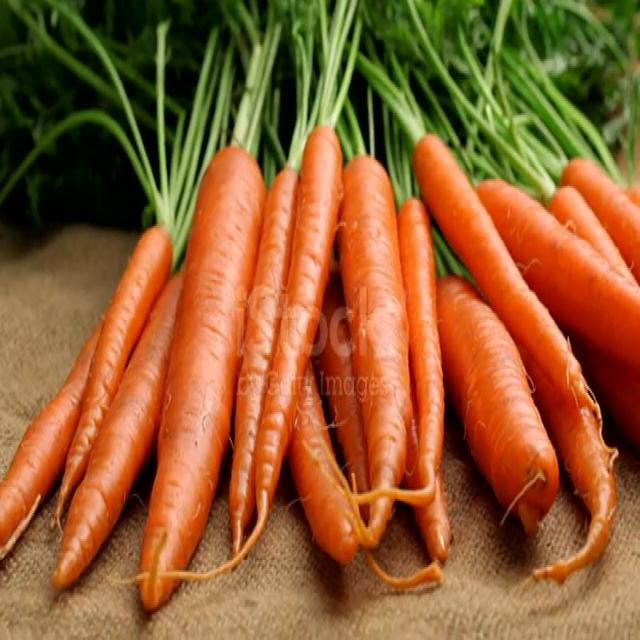carrot: (140, 146, 265, 611), (415, 135, 599, 416), (52, 274, 182, 587), (54, 224, 172, 539), (255, 126, 342, 525), (476, 180, 640, 375), (438, 276, 559, 534), (229, 170, 299, 553), (0, 315, 107, 548), (340, 157, 411, 488), (519, 346, 616, 582), (398, 198, 450, 560), (288, 363, 358, 564)
